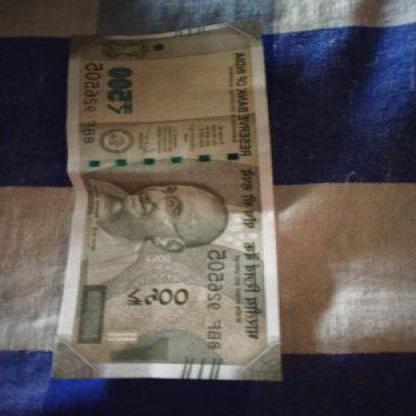New500Front: (53, 31, 269, 380)
